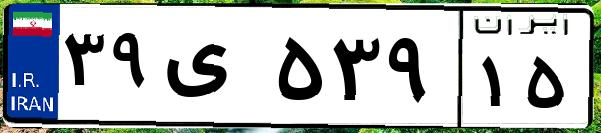1: (475, 38, 525, 113)
3: (330, 28, 385, 110), (57, 26, 110, 100)
5: (270, 28, 330, 110), (525, 38, 570, 115)
9: (385, 28, 445, 110), (110, 28, 158, 98)
ی: (158, 20, 270, 120)
